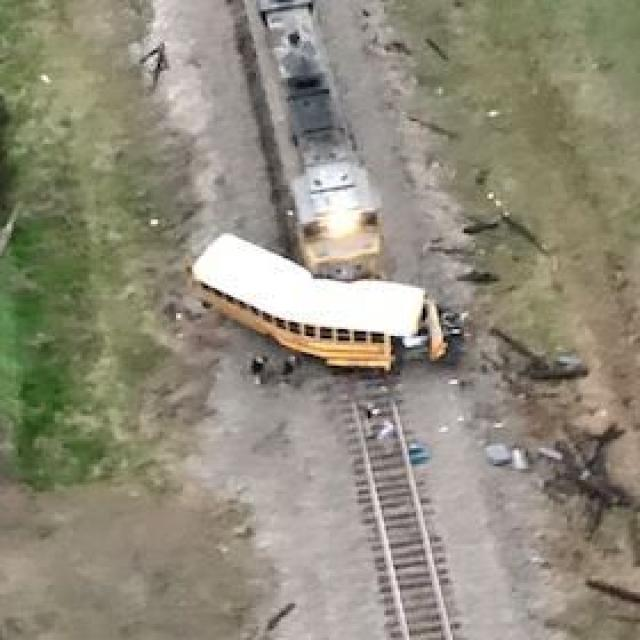traffic_incident: (183, 236, 455, 370)
